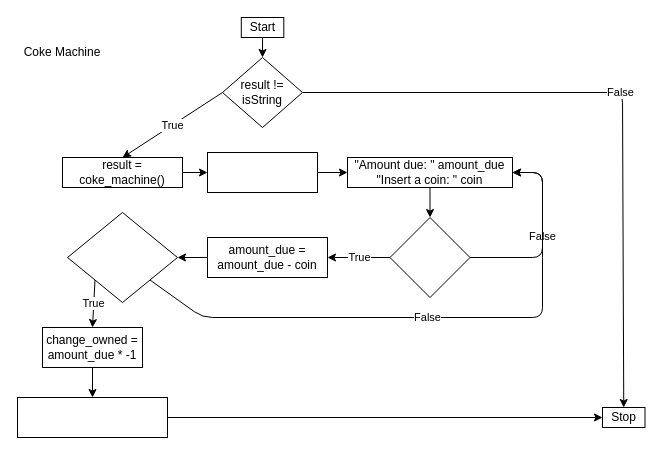
Some shapes in this 663 by 455 pixel diagram are drawn without their labels. The box of each missing label's shape, as (x1, y1, x2, y2) in pixels:
amount_due <= 0: (66, 212, 178, 302)
amount_due = 50 change_owned = 0: (206, 152, 318, 192)
coin = 25 cents or 10 cents or 5 cents: (389, 216, 470, 298)
return print("Change Owned:", change_owned): (16, 396, 168, 438)
